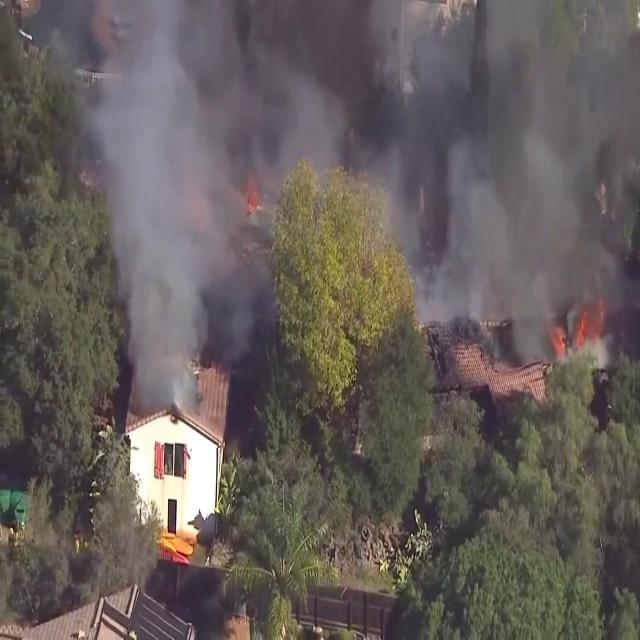Smoke: (69, 0, 318, 409), (334, 0, 610, 325)
